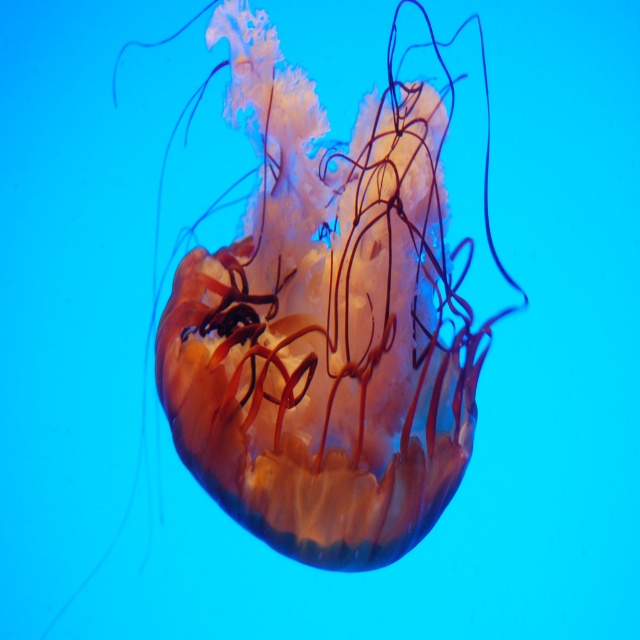Jellyfish: (40, 0, 530, 639)
